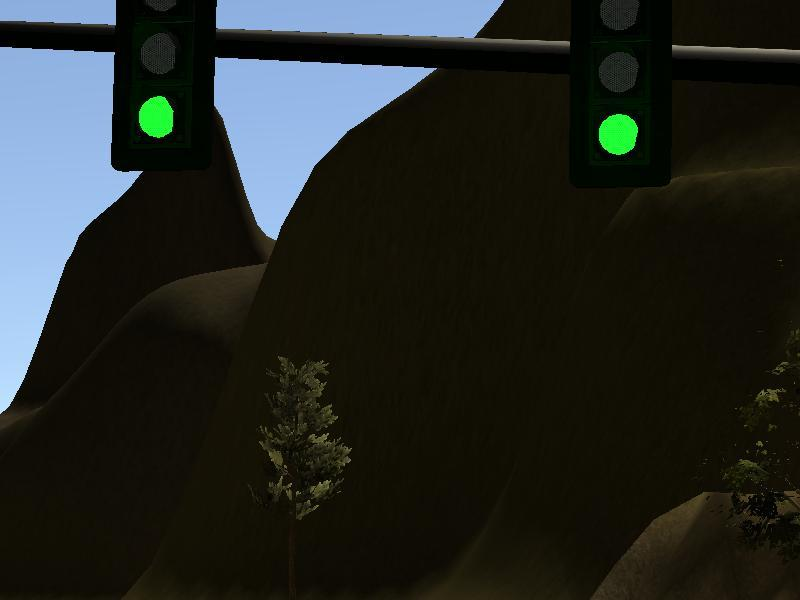Green: (570, 1, 671, 186), (113, 1, 213, 169)
